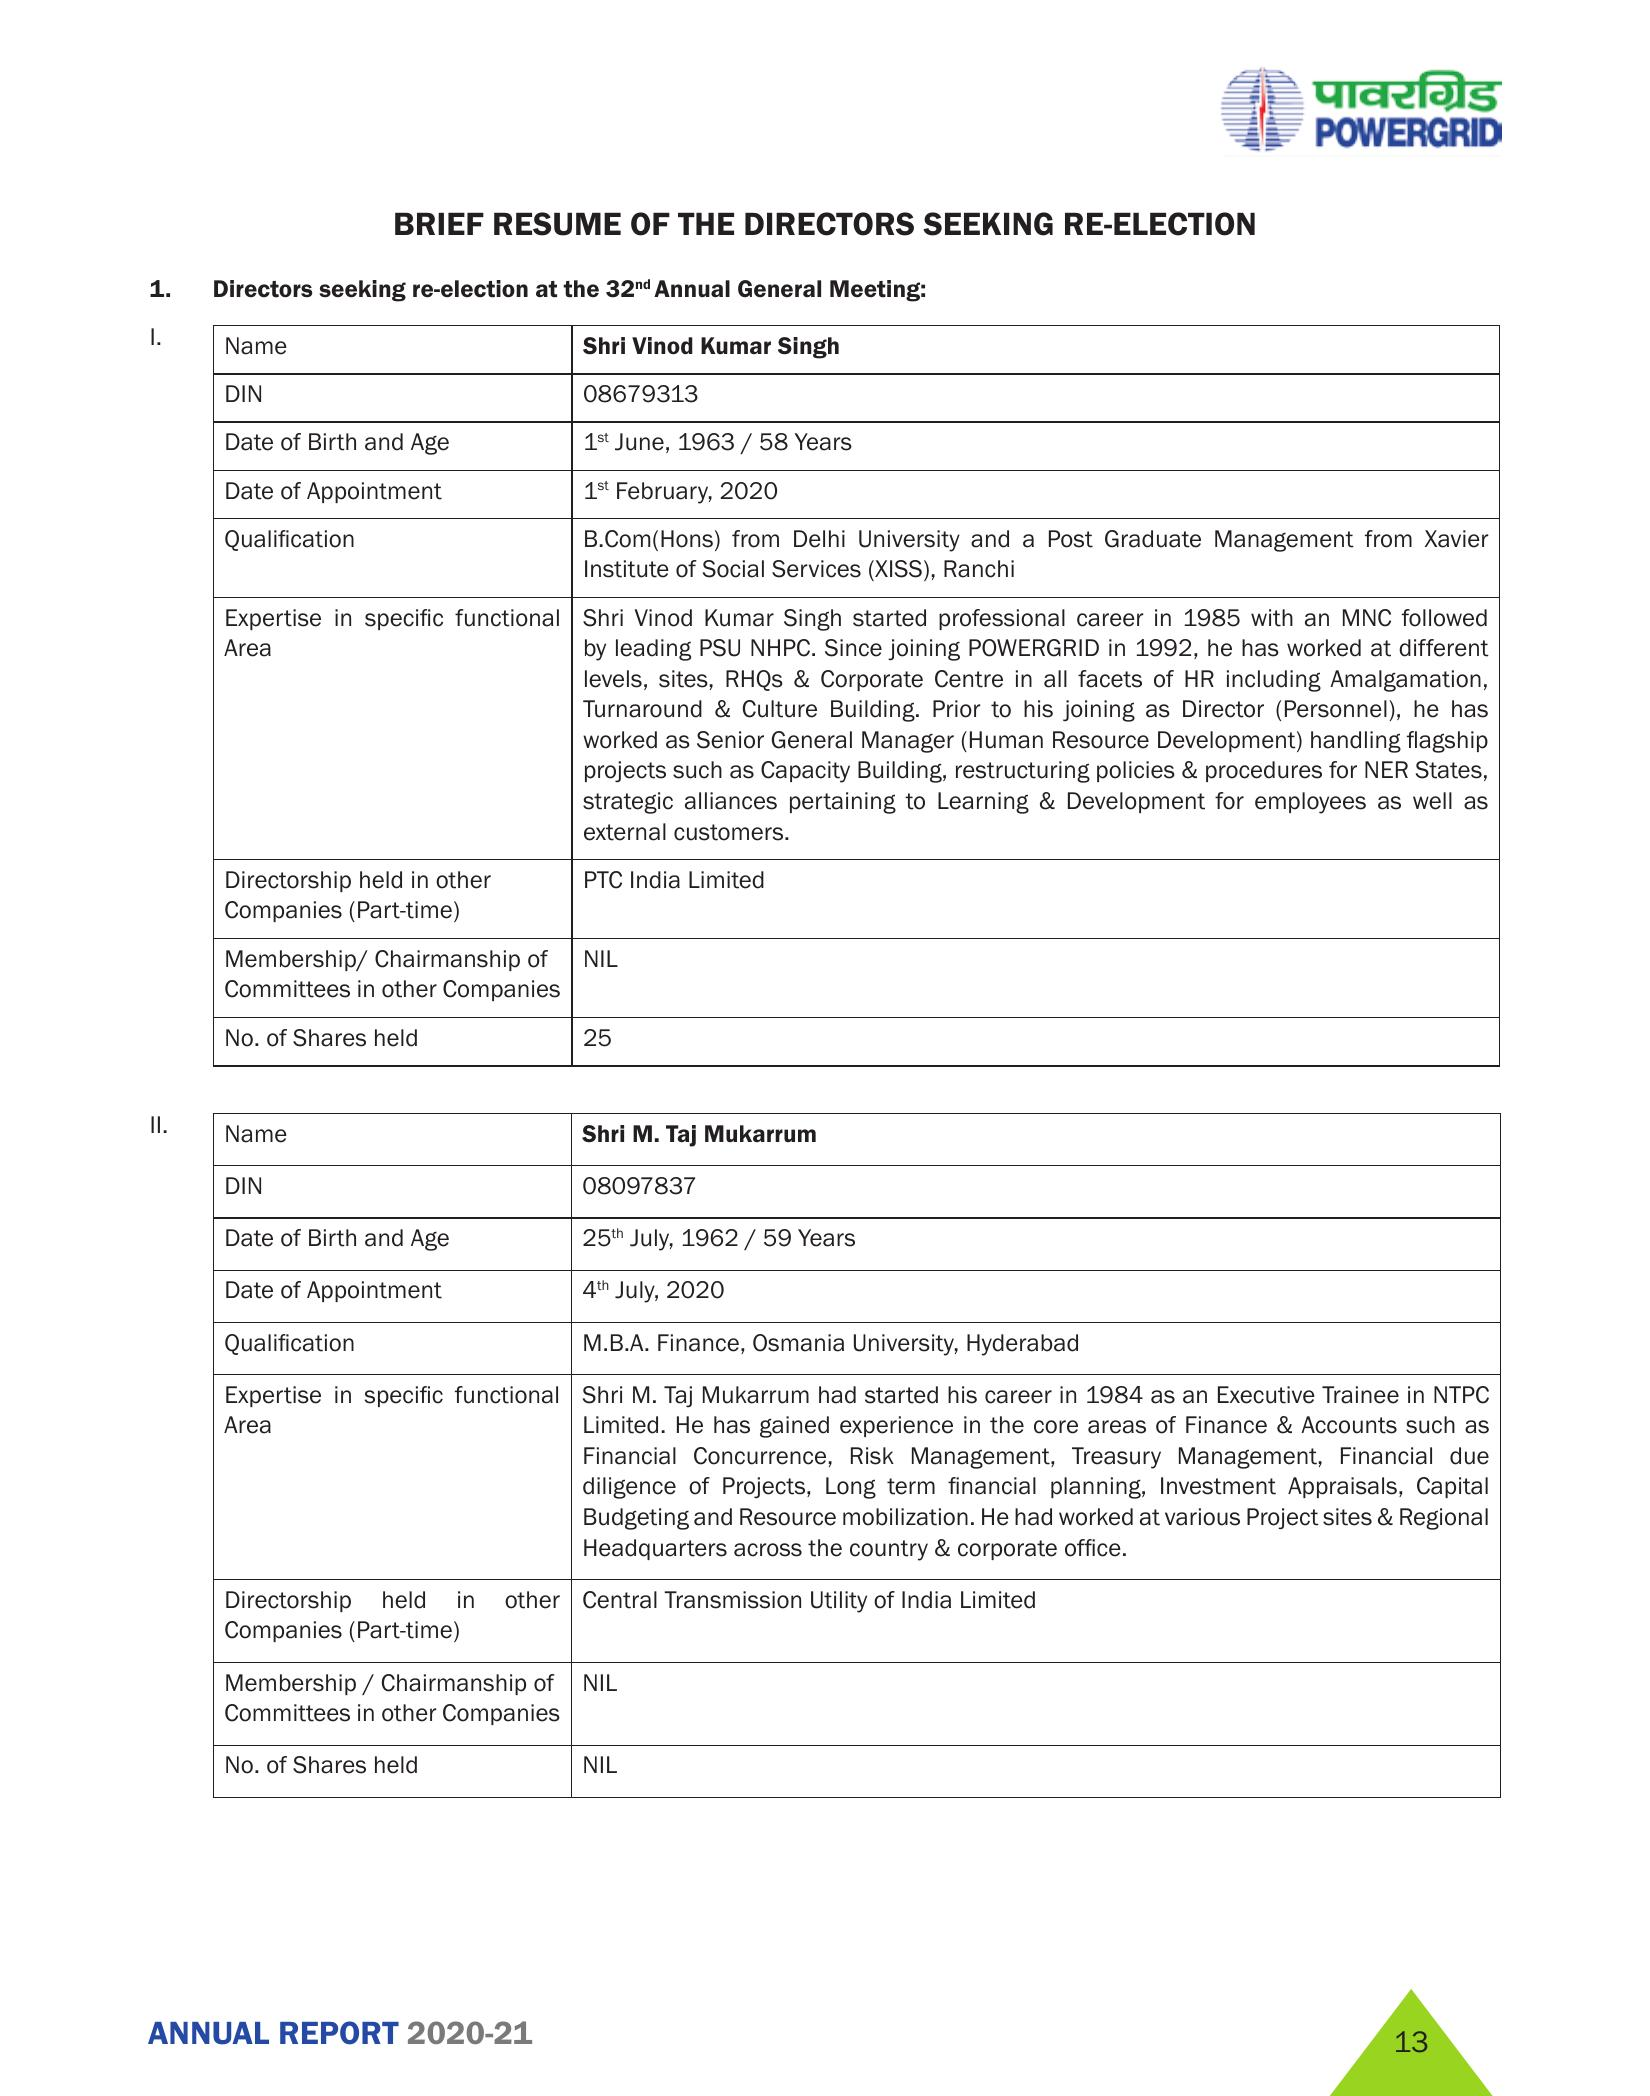Footer: (0, 1968, 1650, 2096)
Header: (0, 0, 1650, 158)
Table: (172, 320, 1533, 1087), (167, 1099, 1528, 1814)
